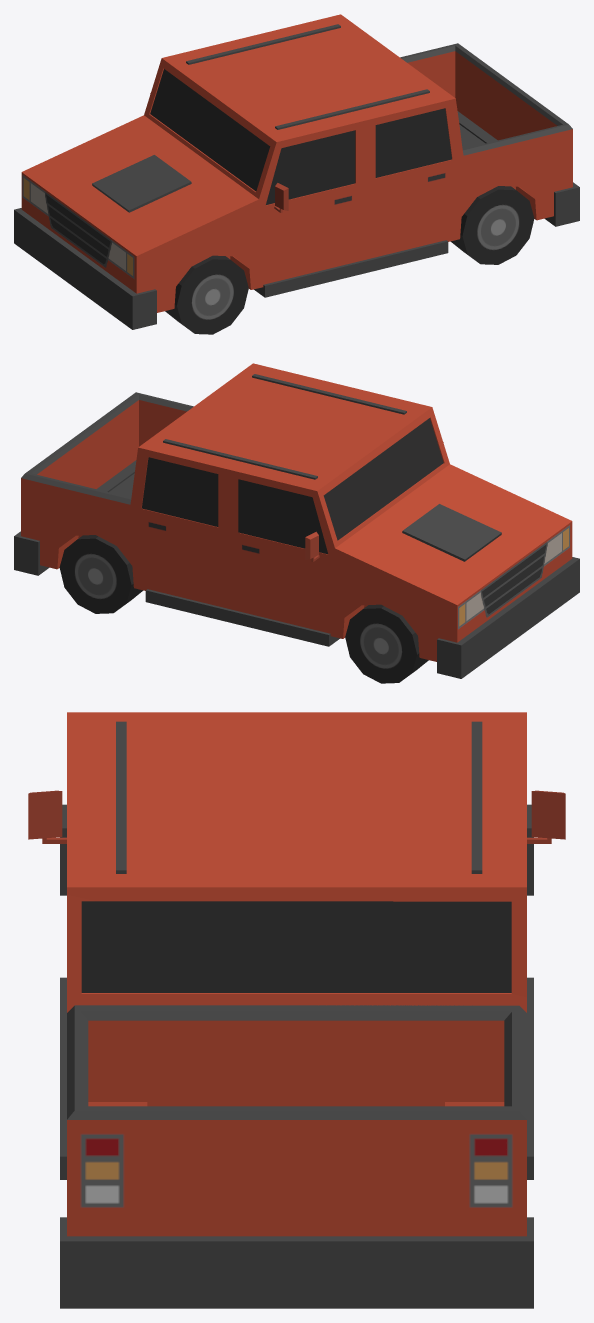
File: pick-up-truck.glb
3 views of the same model, one above another, from view 1: azimuth 30°, elevation 25°; view 2: azimuth 150°, elevation 25°; view 3: azimuth 270°, elevation 25° (orthographic). The views are drawn at different scales.
Visible parts, largest first — view 1: Car Body, Wheel_FL, Wheel_RL; view 2: Car Body, Wheel_FR, Wheel_RR; view 3: Car Body.
Boxes of the visible parts, bbox=[...] form: Car Body: bbox=[14, 14, 579, 329]; Wheel_FL: bbox=[165, 255, 248, 334]; Wheel_RL: bbox=[450, 186, 534, 264]; Car Body: bbox=[14, 363, 579, 678]; Wheel_FR: bbox=[345, 604, 428, 683]; Wheel_RR: bbox=[59, 535, 143, 613]; Car Body: bbox=[28, 712, 565, 1308].
Bounding box in the file's own units: 5.97 × 2.27 × 3.1.
1 material, 1 textured.
